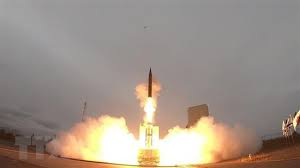ten_lua: (146, 65, 155, 96)
